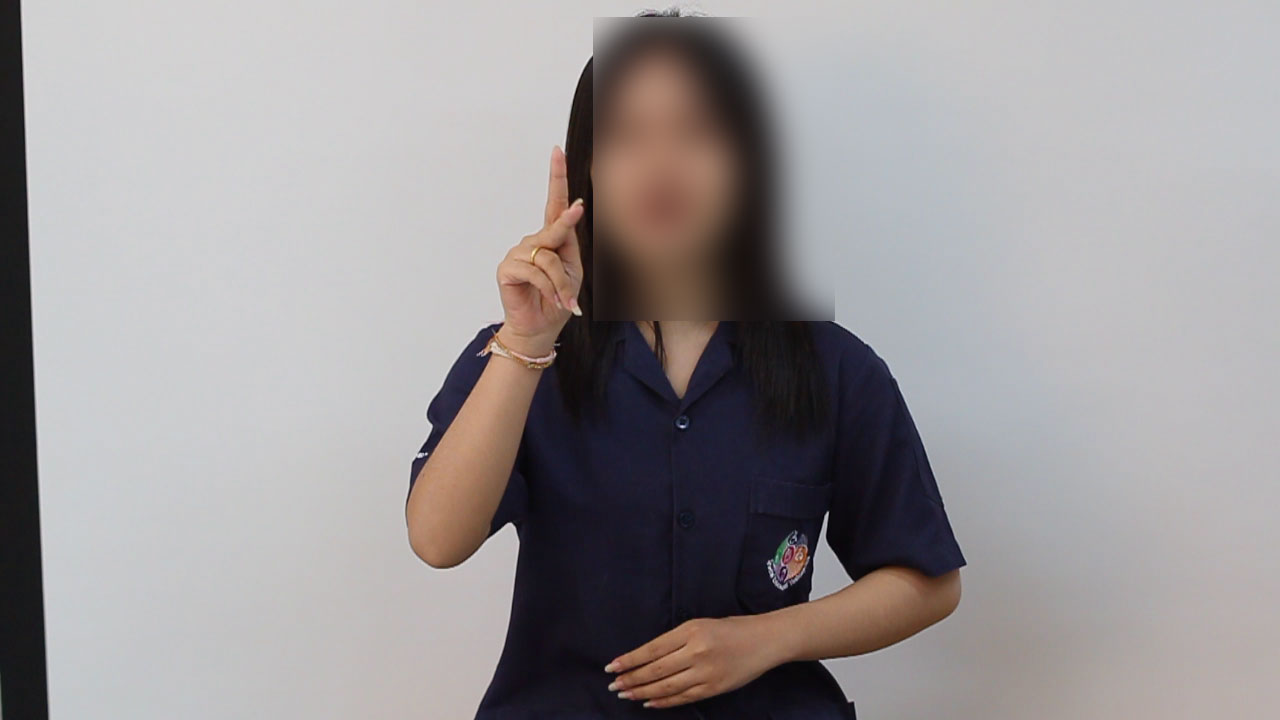ko: (423, 132, 625, 361)
